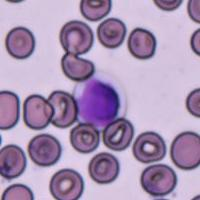L: (73, 71, 128, 128)
